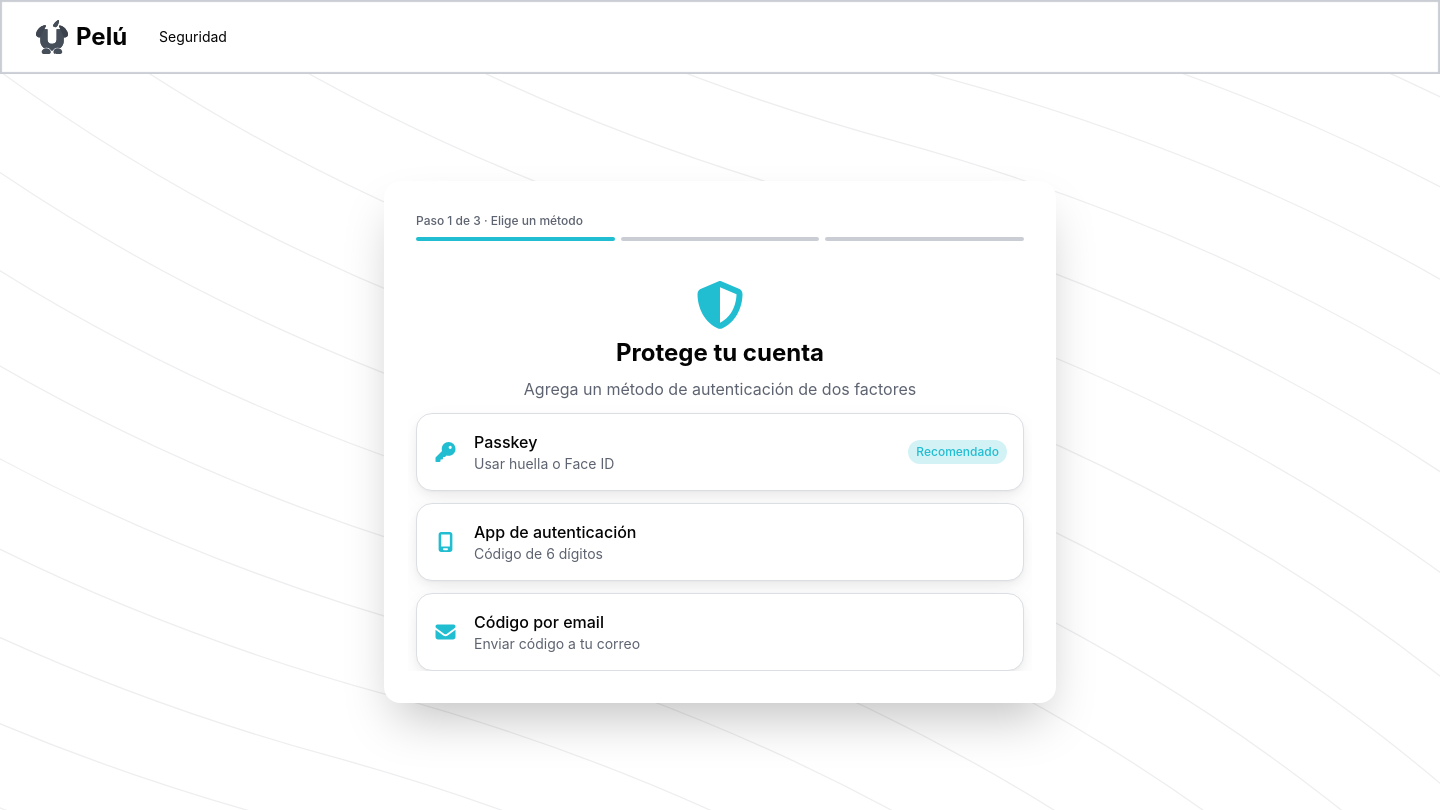
Test case: MfaEnrollment — one panel shell, one step indicator › advances the indicator to step 2 on the passkey configure screen
Click the button "Passkey Usar huella o Face ID Recomendado" at (506,442), box [416, 413, 1024, 491]
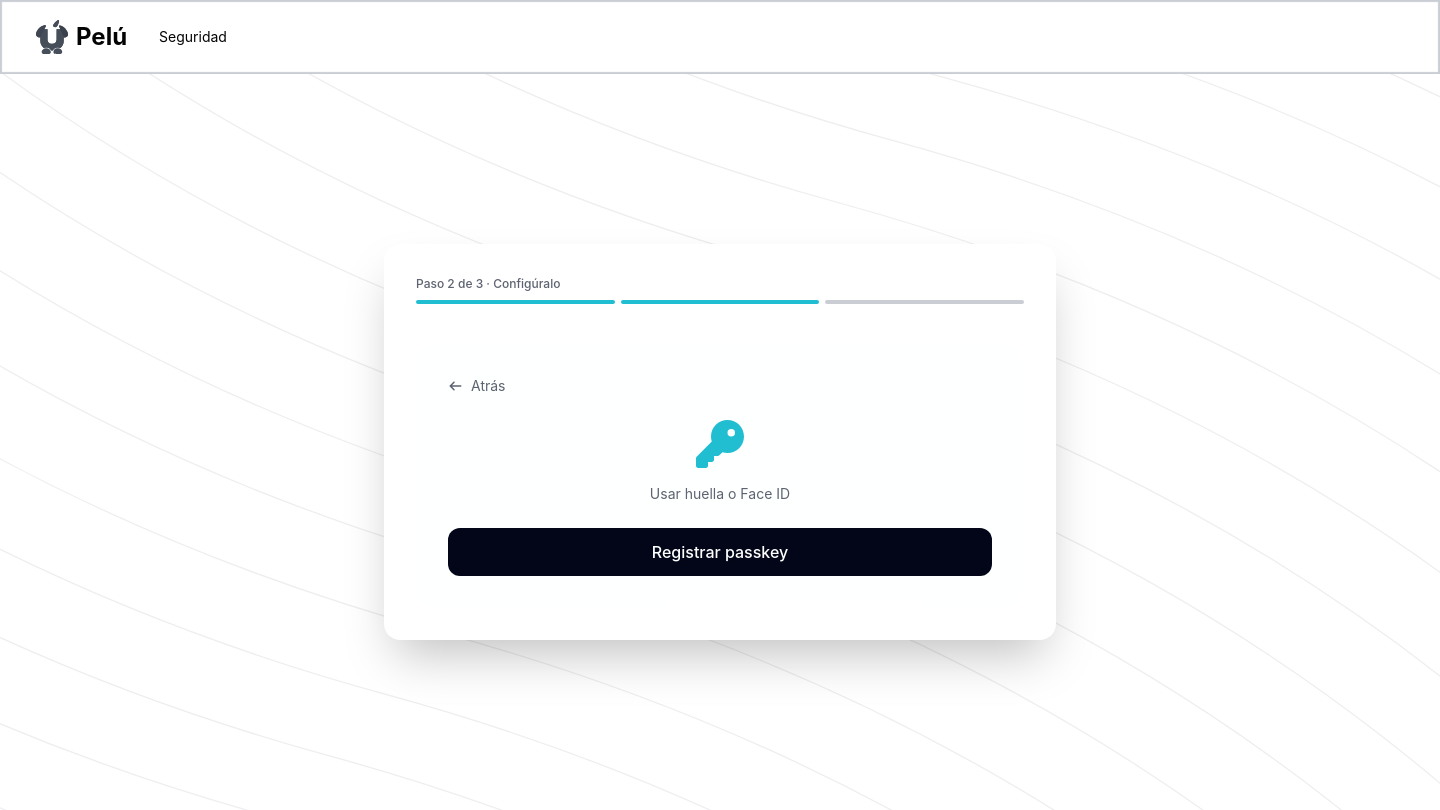
Expected: the button "Registrar passkey" is shown, [448, 528, 992, 576]
